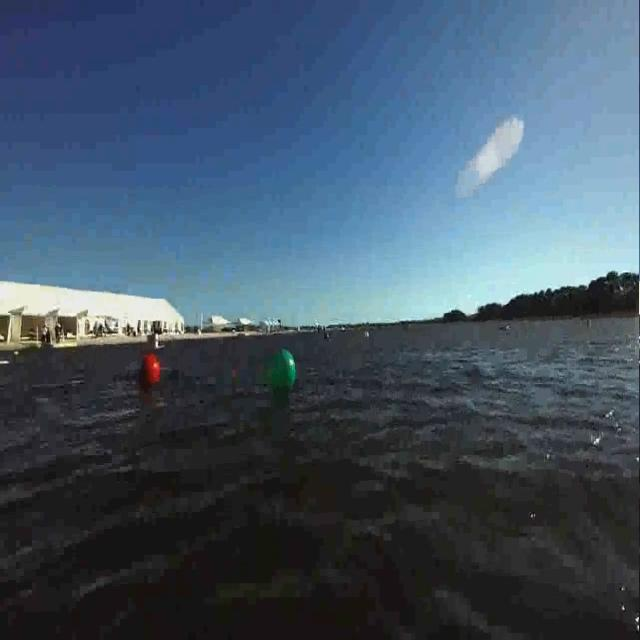green-buoy: (271, 349, 297, 391)
red-buoy: (142, 354, 162, 392)
